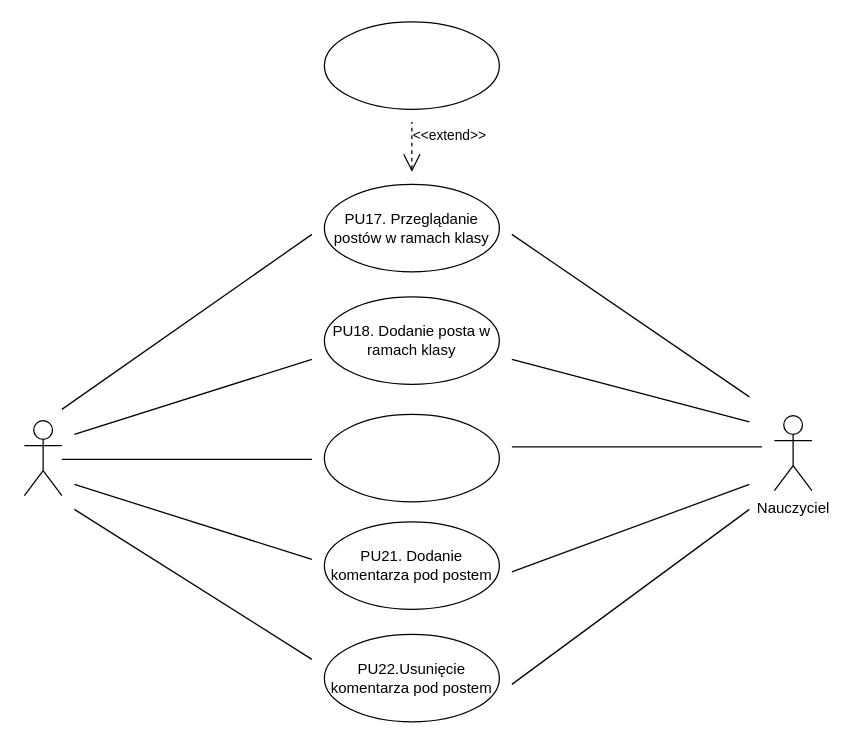
Image size: 851x744. Some labels were removed from this diagram. The shapes that lost their labels are listed below. From the top down, each one's centre as x and y in pixels, then its label:
the point at 411,65: PU20. Przeglądanie komentarzy pod postami
the point at 42,457: Uczeń
the point at 411,457: PU19 . Usunięcie posta
